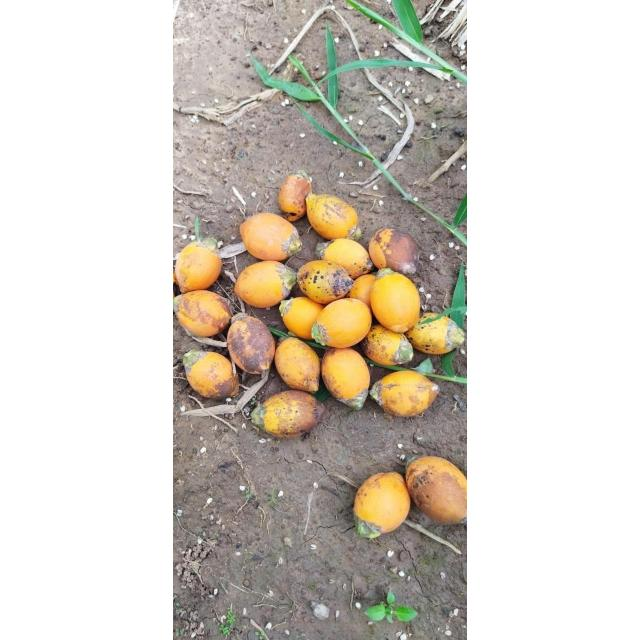good: (404, 455, 466, 525), (352, 471, 412, 537), (249, 390, 325, 438), (370, 369, 440, 418), (369, 272, 421, 332), (238, 213, 302, 261), (312, 297, 372, 348), (321, 347, 371, 408), (226, 314, 276, 374), (234, 261, 296, 309), (183, 350, 239, 400), (405, 312, 467, 356), (174, 290, 230, 338), (304, 193, 360, 240), (274, 336, 320, 392), (316, 238, 374, 280), (368, 227, 418, 275), (360, 324, 416, 366), (178, 242, 222, 292), (280, 296, 324, 340), (278, 173, 312, 219), (348, 274, 376, 306), (198, 236, 218, 252), (173, 294, 183, 314)
